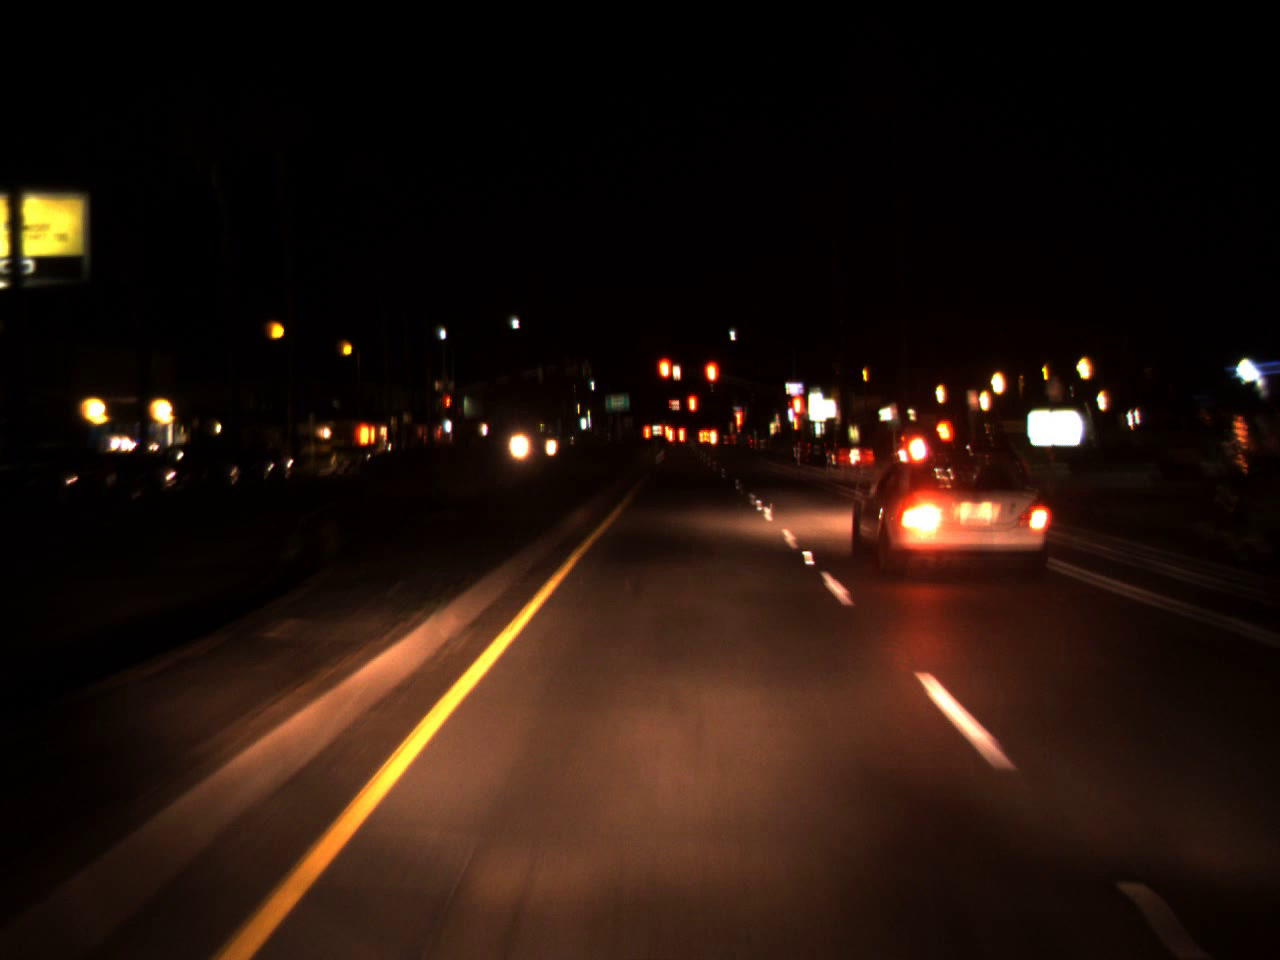stop: (655, 354, 674, 405), (789, 390, 807, 441), (703, 357, 721, 405), (734, 405, 743, 450), (687, 395, 696, 422), (445, 394, 451, 418)
